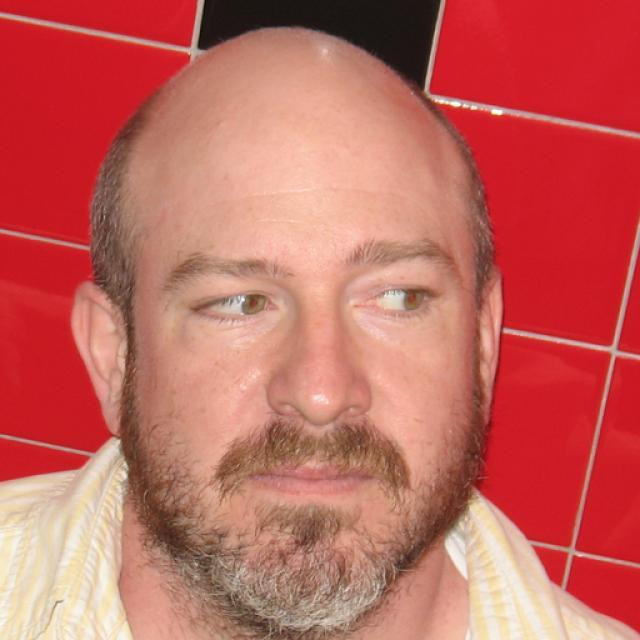neutral: (119, 92, 479, 618)
